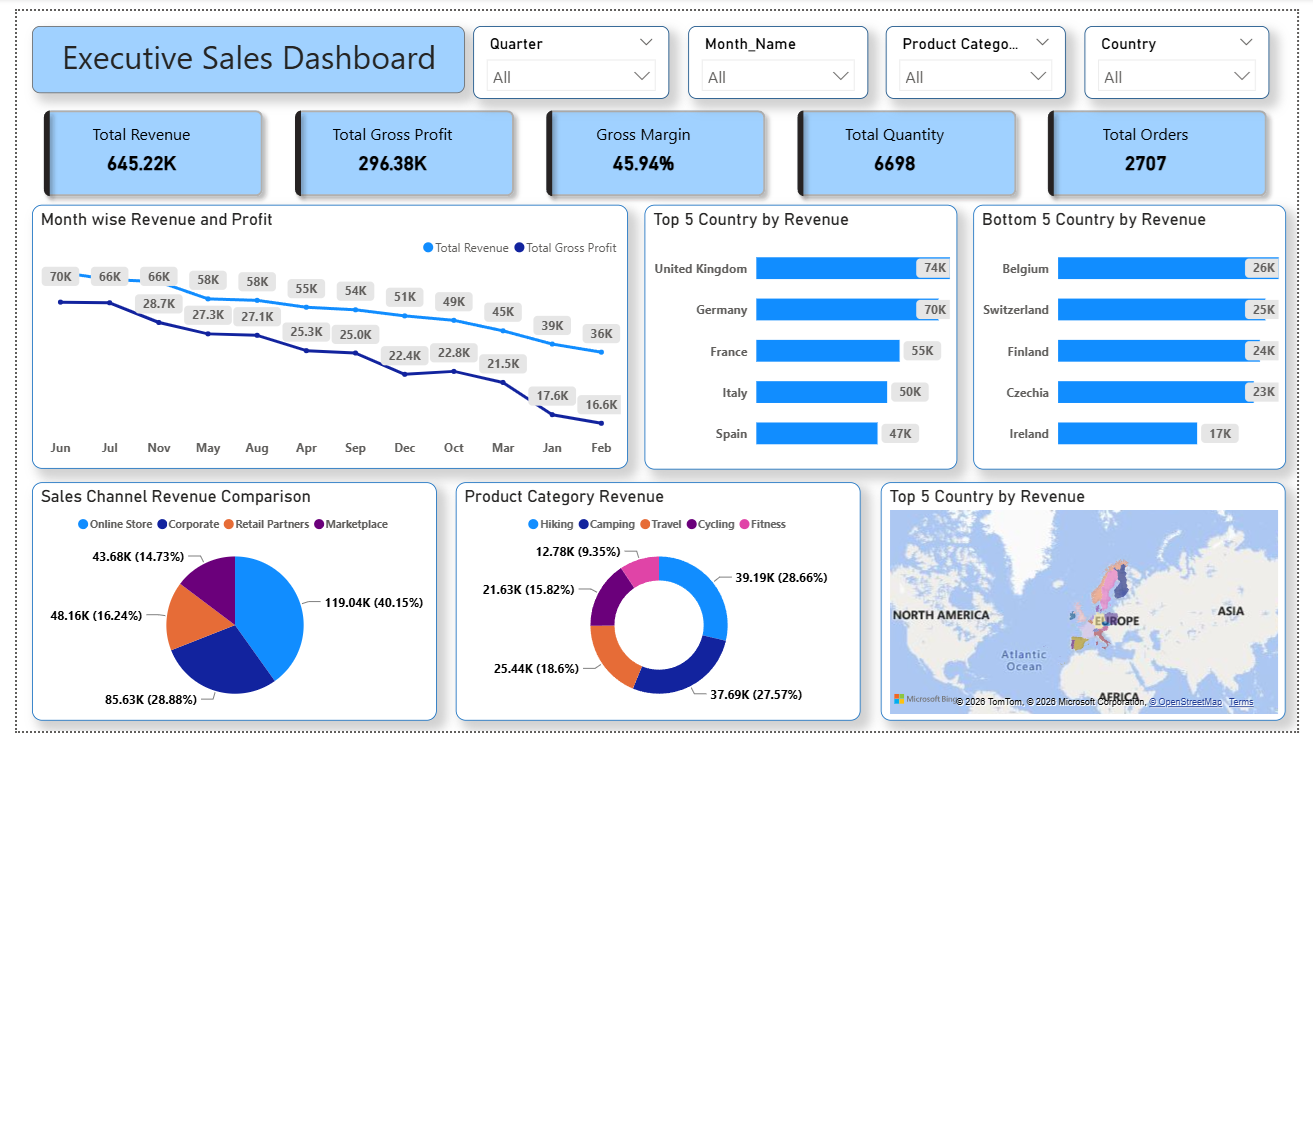

This screenshot's page, from the dashboard's own definition file:
{"tool":"powerbi","page":{"name":"Page 1","canvas":[1280,720],"ordinal":0},"visuals":[{"type":"cardVisual","fields":{"Data":["All_Measures.Total Revenue","All_Measures.Total Gross Profit","All_Measures.Gross Margin","All_Measures.Total Quantity","All_Measures.Total Orders"]},"box":[10,82.5,1258.8,120],"z":0},{"type":"textbox","box":[15,15,432.5,67.5],"z":1000},{"type":"group","id":"g1","title":"Group 1","box":[456.2,15,796.2,72.5],"z":2000},{"type":"slicer","fields":{"Values":["Date_Table.Quarter"]},"box":[456.2,15,196.2,72.5],"z":2000,"group":"g1"},{"type":"slicer","fields":{"Values":["Date_Table.Month_Name"]},"box":[670.8,15,180,72.5],"z":3000,"group":"g1"},{"type":"lineChart","title":"Month wise Revenue and Profit","fields":{"Category":["Date_Table.Month_Name"],"Y":["All_Measures.Total Revenue"],"Y2":["All_Measures.Total Gross Profit"]},"box":[15,193.8,596.2,263.8],"z":3000},{"type":"slicer","fields":{"Values":["Sales_Data.Product Category"]},"box":[869.1,15,180,72.5],"z":4000,"group":"g1"},{"type":"clusteredBarChart","title":"Top 5 Country by Revenue","fields":{"Y":["All_Measures.Total Revenue"],"Category":["Sales_Data.Country"]},"box":[627.5,193.8,312.5,265],"z":4000},{"type":"slicer","fields":{"Values":["Sales_Data.Country"]},"box":[1067.4,15,185,72.5],"z":5000,"group":"g1"},{"type":"clusteredBarChart","title":"Bottom 5 Country by Revenue","fields":{"Y":["All_Measures.Total Revenue"],"Category":["Sales_Data.Country"]},"box":[956.2,193.8,312.5,265],"z":5000},{"type":"pieChart","title":"Sales Channel Revenue Comparison","fields":{"Y":["All_Measures.Total Revenue"],"Category":["Sales_Data.Sales Channel"]},"box":[15,471.2,404.4,238.8],"z":6000},{"type":"donutChart","title":"Product Category Revenue ","fields":{"Category":["Sales_Data.Product Category"],"Y":["All_Measures.Total Gross Profit"]},"box":[439.1,471.2,405,238.8],"z":7000},{"type":"filledMap","title":"Top 5 Country by Revenue","fields":{"Category":["Sales_Data.Country"]},"box":[863.8,471.2,405,238.8],"z":8000}]}

Visuals, with their boxes on the page's 1280x720 design canvas (x1, y1, x2, y2). These are canvas units, not pixel positions in the 1313x1126 screenshot, which may show the page scaled, cropped or inside an application window:
cardVisual - All_Measures.Total Revenue x All_Measures.Total Gross Profit: [10,82,1269,202]
textbox: [15,15,448,82]
"Group 1" group: [456,15,1252,88]
slicer - Date_Table.Quarter: [456,15,652,88]
slicer - Date_Table.Month_Name: [671,15,851,88]
"Month wise Revenue and Profit" lineChart: [15,194,611,458]
slicer - Sales_Data.Product Category: [869,15,1049,88]
"Top 5 Country by Revenue" clusteredBarChart: [628,194,940,459]
slicer - Sales_Data.Country: [1067,15,1252,88]
"Bottom 5 Country by Revenue" clusteredBarChart: [956,194,1269,459]
"Sales Channel Revenue Comparison" pieChart: [15,471,419,710]
"Product Category Revenue " donutChart: [439,471,844,710]
"Top 5 Country by Revenue" filledMap: [864,471,1269,710]
